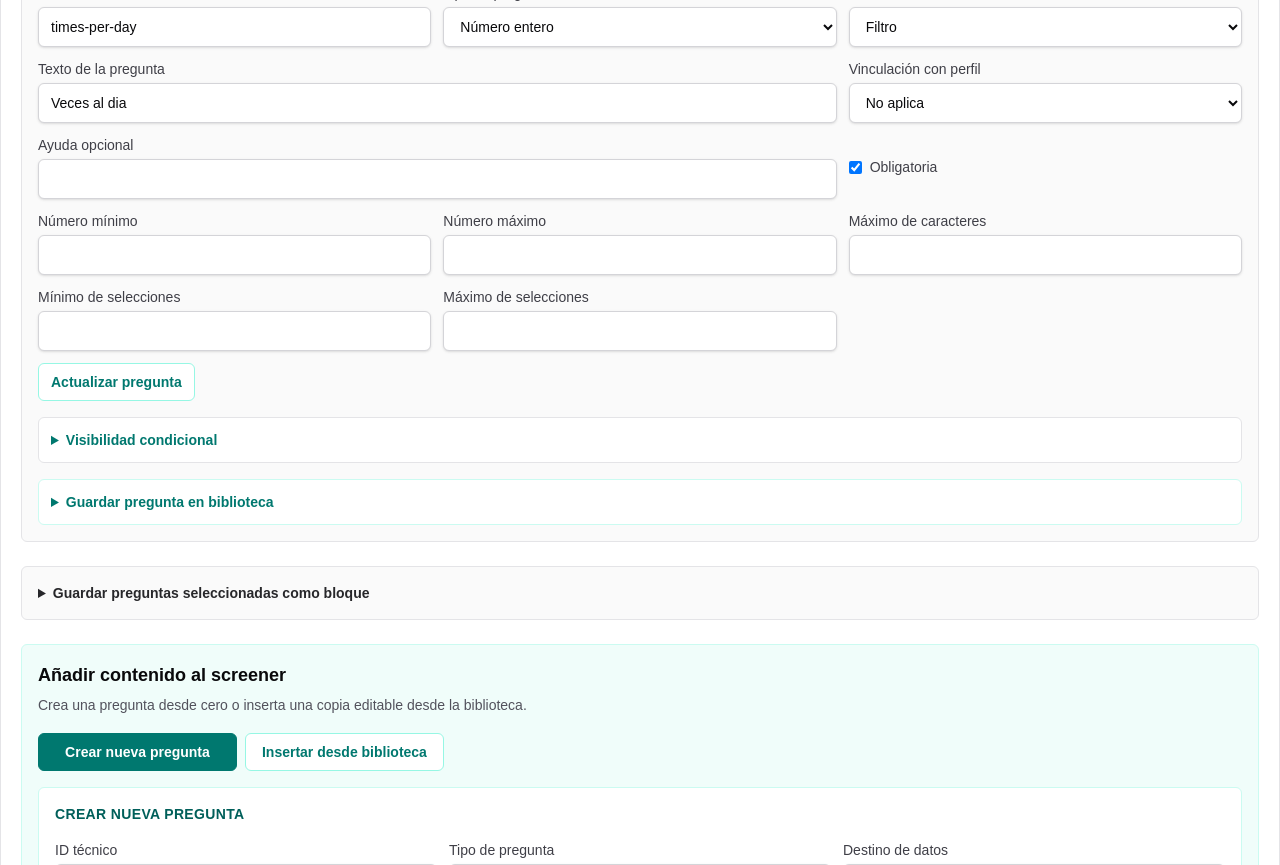
Test: ScreenerBuilder › muestra visible siempre por defecto en cada pregunta
(page scrolled)
Click the heading "Visibilidad condicional".
click(142, 440)  # box 66,432 -> 217,448
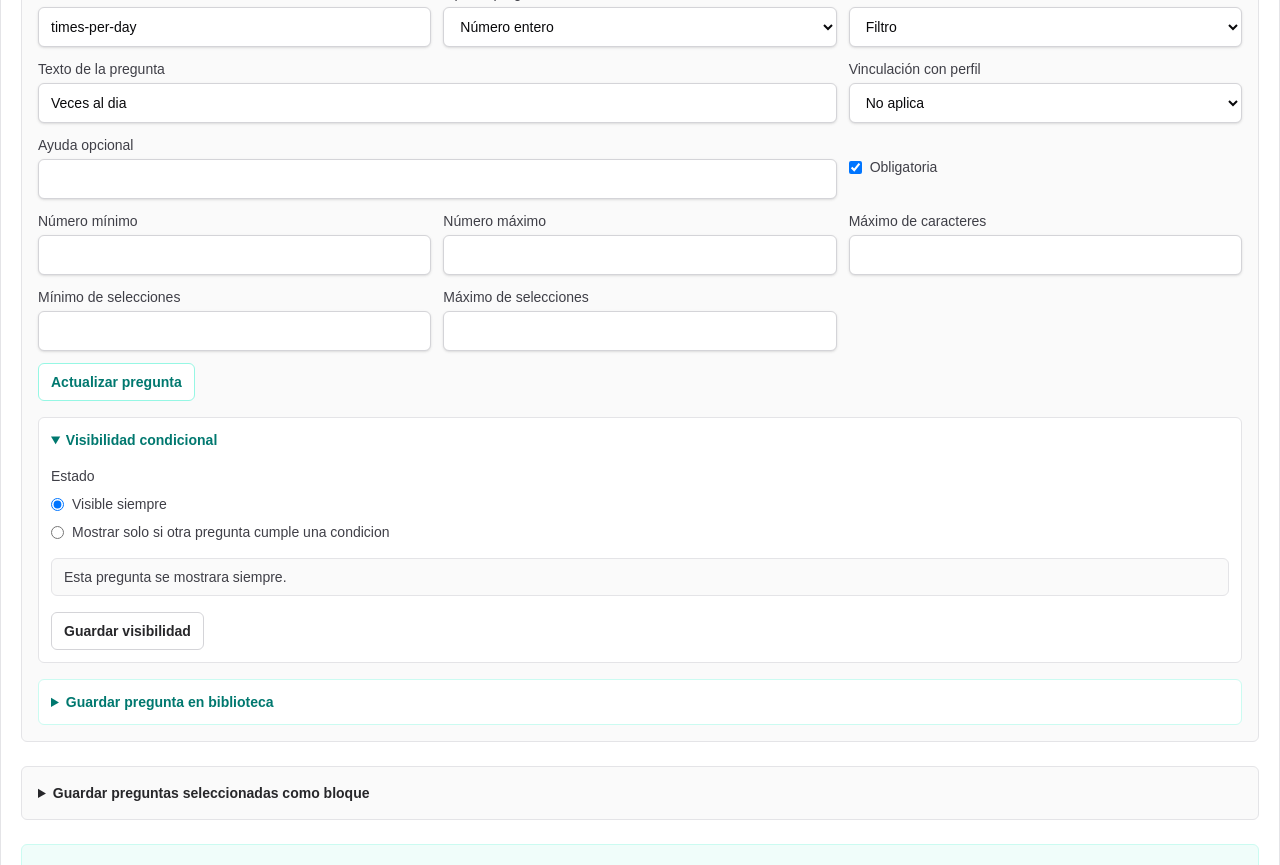
Expected: the radio button labelled "Visible siempre" is checked, 51,498 -> 64,510
Expected: the text "Esta pregunta se mostrara siempre." is shown, 51,558 -> 1229,596
